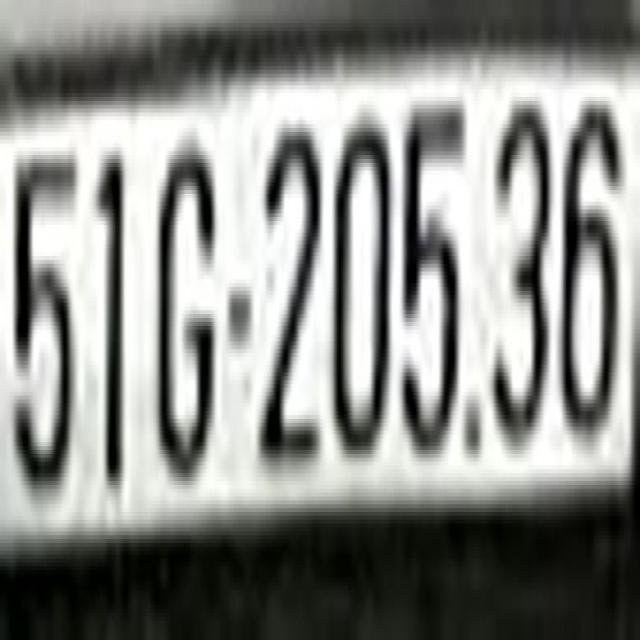0: (336, 109, 388, 462)
1: (104, 140, 127, 484)
2: (258, 117, 324, 470)
3: (496, 93, 552, 427)
5: (401, 93, 469, 454), (15, 147, 78, 477)
6: (562, 93, 622, 427)
G: (161, 143, 216, 470)
